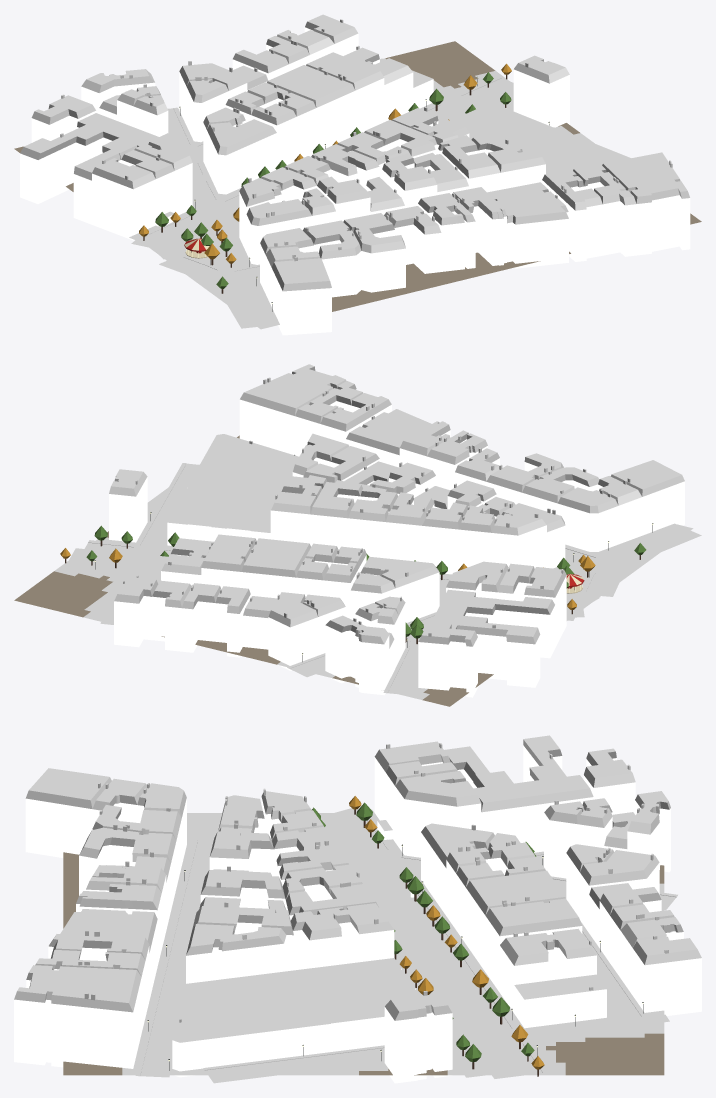
Rendered from zone_E1.glb.
The picture shows the model from 3 angles, top to bottom: view 1: azimuth 30°, elevation 25°; view 2: azimuth 150°, elevation 25°; view 3: azimuth 270°, elevation 25°; orthographic projection. The views are drawn at different scales.
Parts seen in each view (by area): view 1: zone_E1_batiments, zone_E1_sol_NOCOL, zone_E1_terrain, zone_E1_decor_NOCOL; view 2: zone_E1_batiments, zone_E1_sol_NOCOL, zone_E1_terrain, zone_E1_decor_NOCOL; view 3: zone_E1_batiments, zone_E1_sol_NOCOL, zone_E1_terrain, zone_E1_decor_NOCOL.
Part boxes in pixels (x1,y1,x2,y2): zone_E1_batiments: (20, 14, 690, 335); zone_E1_sol_NOCOL: (129, 76, 513, 328); zone_E1_terrain: (14, 41, 701, 329); zone_E1_decor_NOCOL: (139, 63, 549, 311); zone_E1_batiments: (109, 364, 684, 697); zone_E1_sol_NOCOL: (65, 463, 701, 695); zone_E1_terrain: (14, 435, 693, 706); zone_E1_decor_NOCOL: (60, 455, 653, 661); zone_E1_batiments: (14, 735, 701, 1083); zone_E1_sol_NOCOL: (135, 808, 677, 1083); zone_E1_terrain: (63, 813, 664, 1075); zone_E1_decor_NOCOL: (147, 796, 643, 1076).
Size of the model in its own units: 212 by 25.18 by 209.
